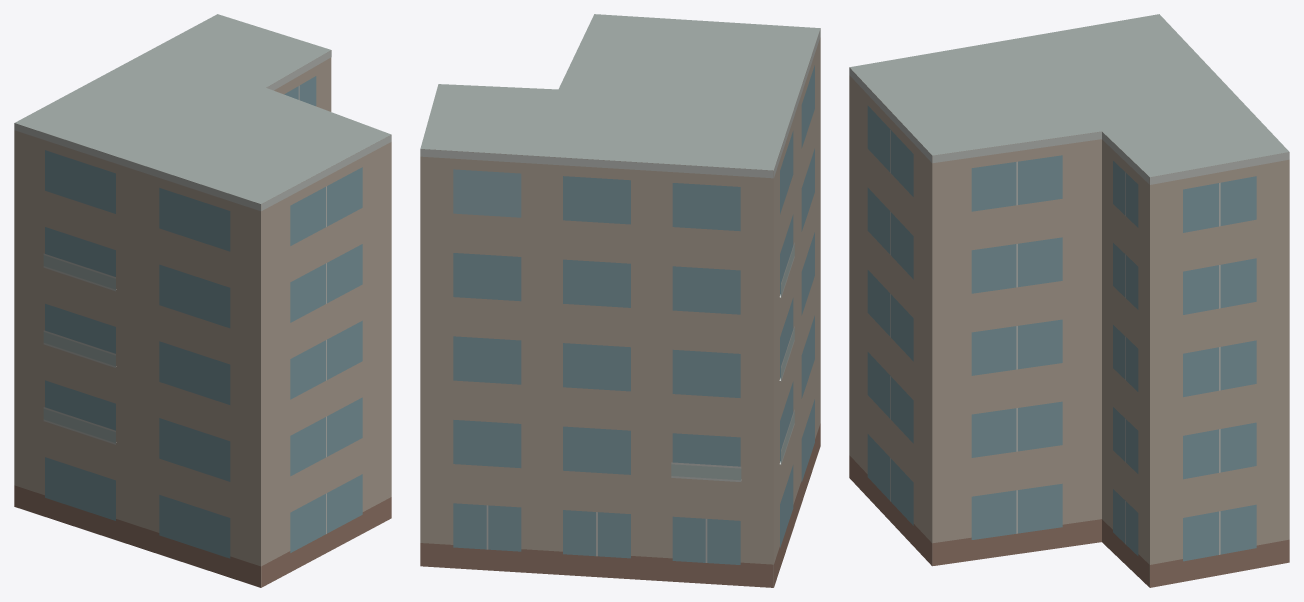
File: survey-upis-32857381.glb
The picture shows the model from 3 angles, left to right: view 1: azimuth 30°, elevation 25°; view 2: azimuth 150°, elevation 25°; view 3: azimuth 270°, elevation 25°; orthographic projection. The views are drawn at different scales.
Parts seen in each view (by area): view 1: survey-upis-32857381.tmp; view 2: survey-upis-32857381.tmp; view 3: survey-upis-32857381.tmp.
Part boxes in pixels (bbox=[...]): survey-upis-32857381.tmp: bbox=[14, 14, 391, 587]; survey-upis-32857381.tmp: bbox=[420, 14, 820, 587]; survey-upis-32857381.tmp: bbox=[849, 14, 1289, 587].
Bounding box in the file's own units: 11.1 × 13 × 12.64.
